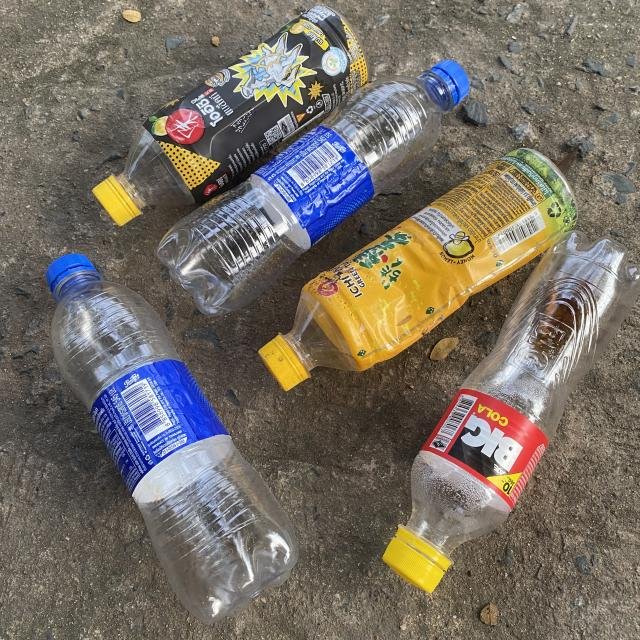plastik: (46, 254, 299, 624), (384, 231, 640, 591), (158, 60, 470, 316), (260, 149, 578, 390), (94, 5, 368, 225)
